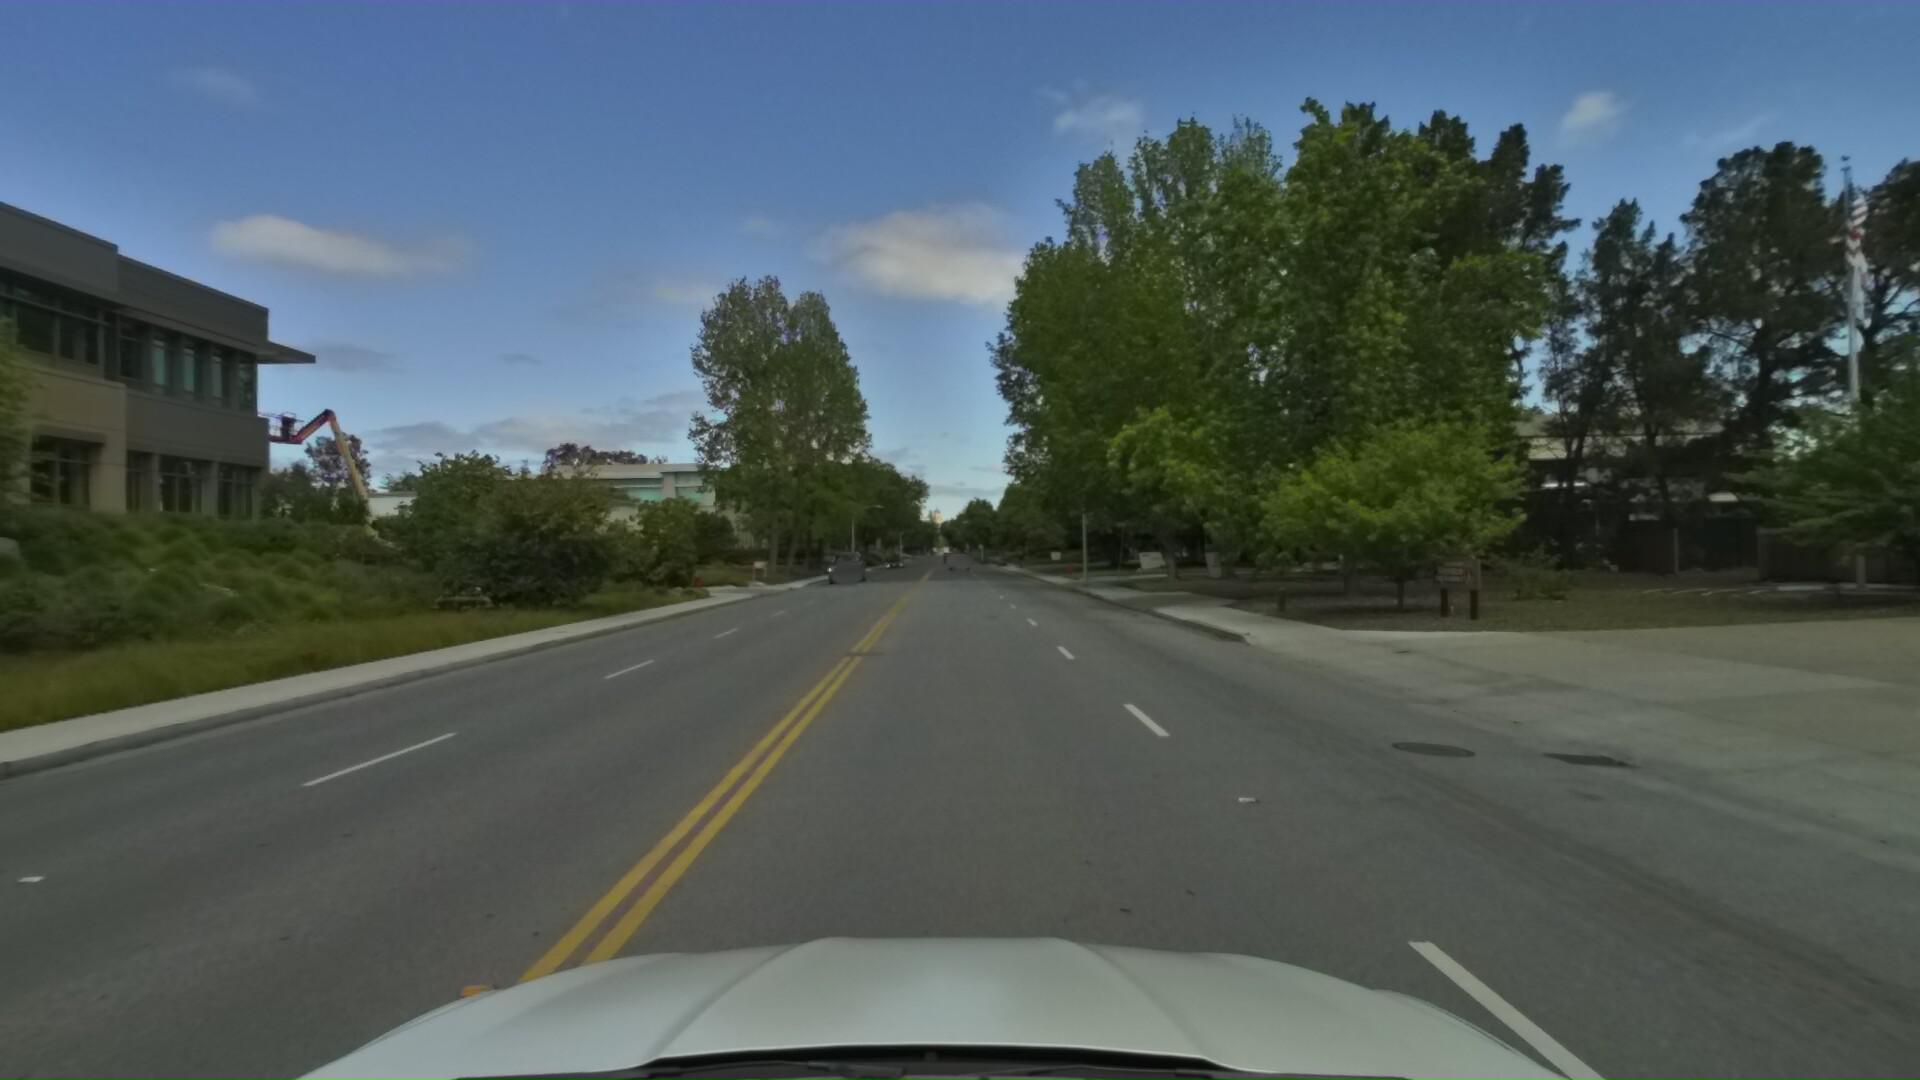car: (822, 541, 866, 574)
other_vehicle: (237, 386, 406, 588)
